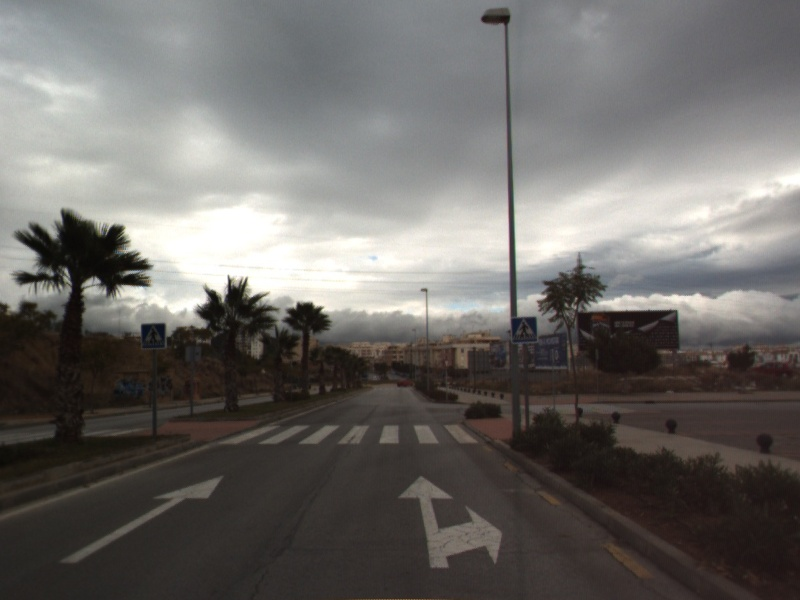STRAIGHT: (57, 473, 226, 565)
STRAIGHT_RIGHT: (395, 473, 504, 570)
